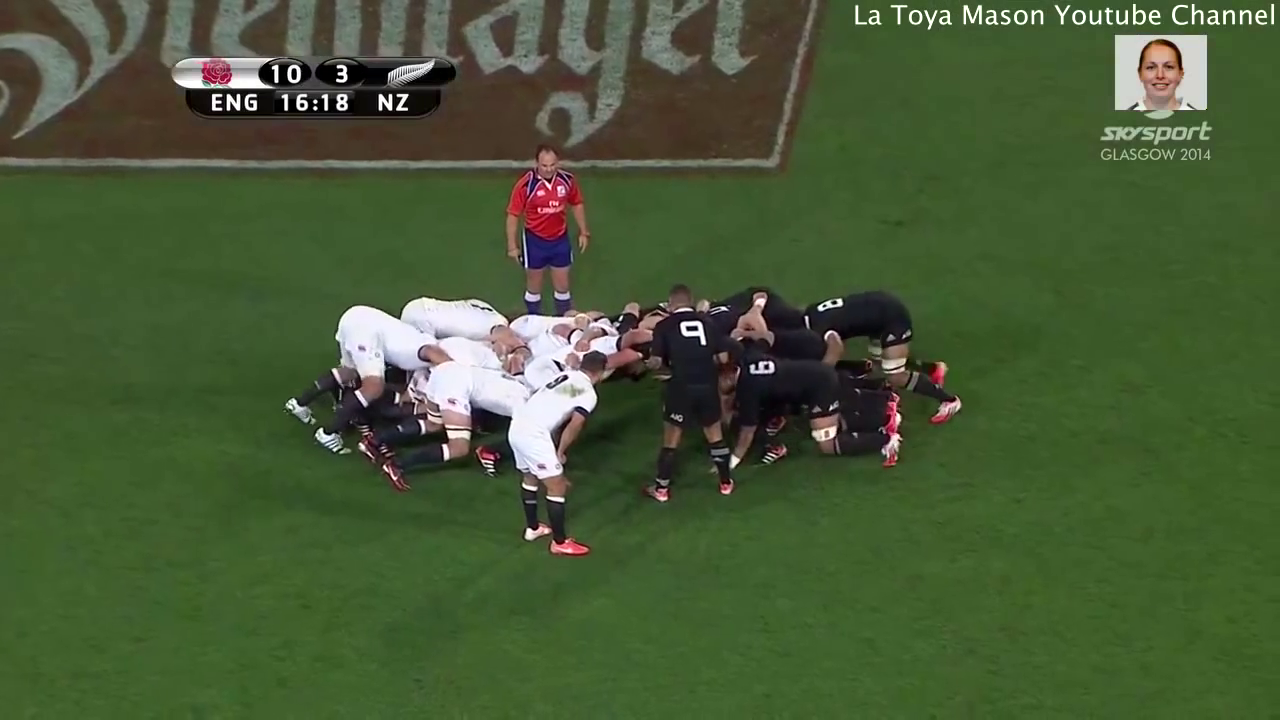player: (705, 343, 907, 474), (275, 296, 433, 460), (504, 334, 610, 576), (801, 281, 961, 422), (645, 280, 740, 512), (371, 360, 522, 497), (497, 144, 592, 330), (391, 290, 506, 338)
scrum: (255, 268, 977, 508)
